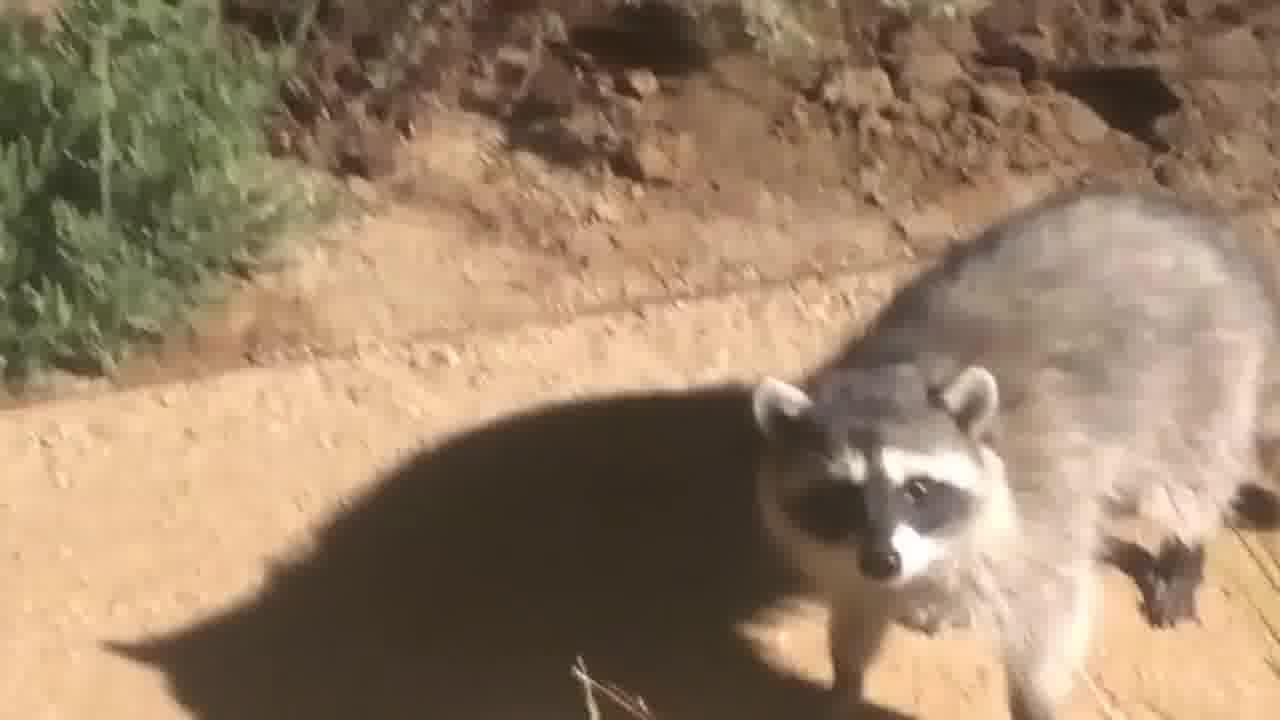raccoon: (739, 175, 1280, 720)
